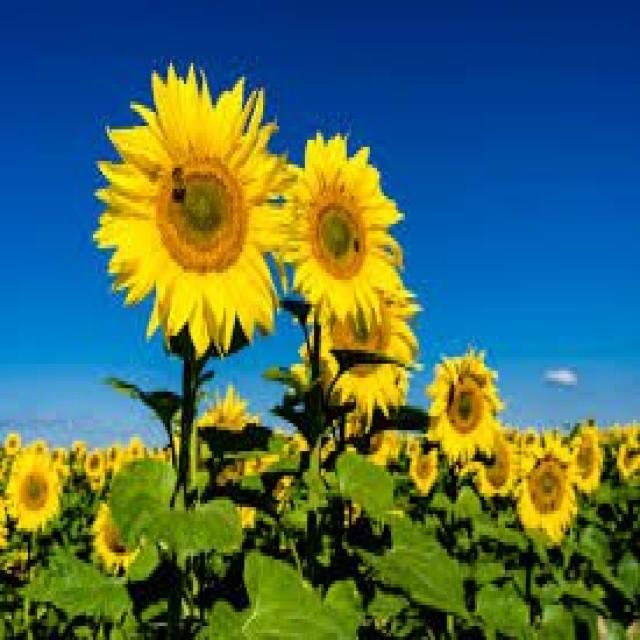sunflower: (92, 56, 297, 360), (281, 119, 408, 336), (425, 344, 506, 464), (512, 439, 586, 544), (10, 434, 68, 542), (90, 502, 146, 568), (568, 420, 603, 500), (86, 451, 105, 479)
